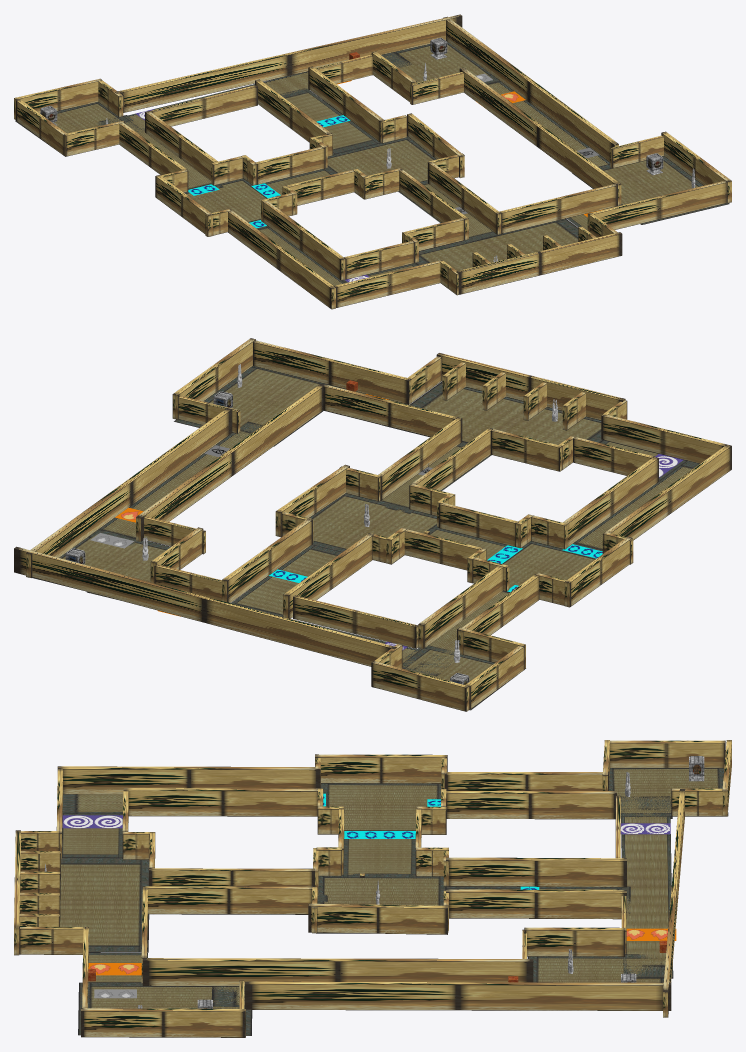
Rendered from GameStage3.fbx.
3 renders of one model, top to bottom at view 1: azimuth 30°, elevation 25°; view 2: azimuth 150°, elevation 25°; view 3: azimuth 270°, elevation 25°, orthographic. The views are drawn at different scales.
Visible parts, largest first — view 1: GameStage3; view 2: GameStage3; view 3: GameStage3.
Part boxes in pixels (x1=…): GameStage3: x1=14, y1=14, x2=731, y2=309; GameStage3: x1=14, y1=338, x2=731, y2=711; GameStage3: x1=14, y1=740, x2=731, y2=1037.
Size of the model in its own units: 304 by 15.02 by 337.
